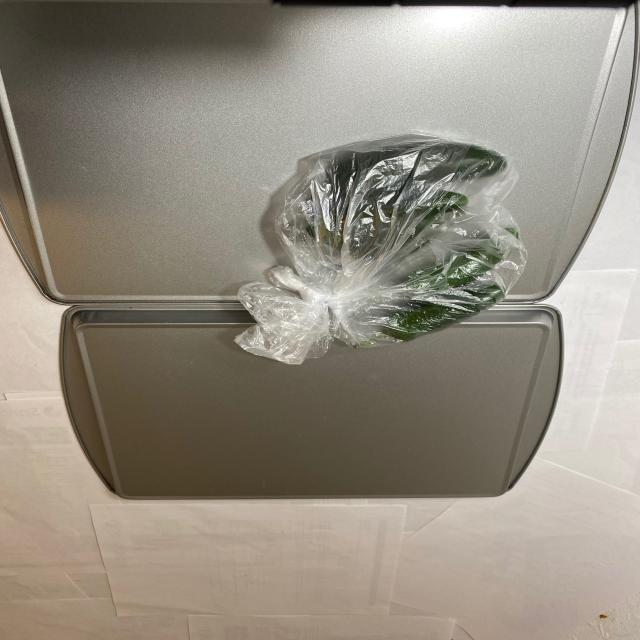chilli: (263, 131, 518, 358)
